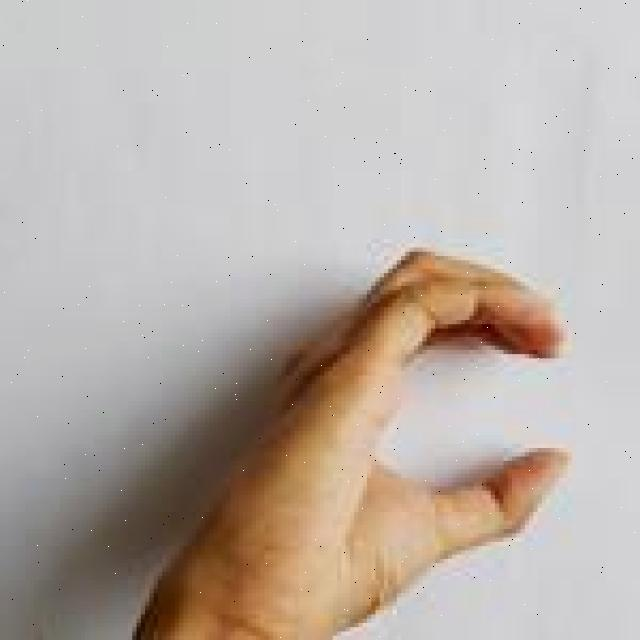C: (121, 240, 570, 640)
